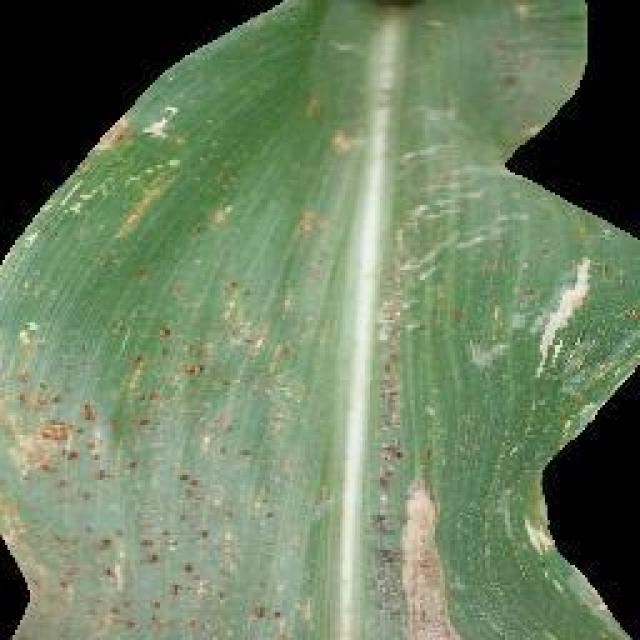Corn Common Rust: (0, 228, 628, 628)
